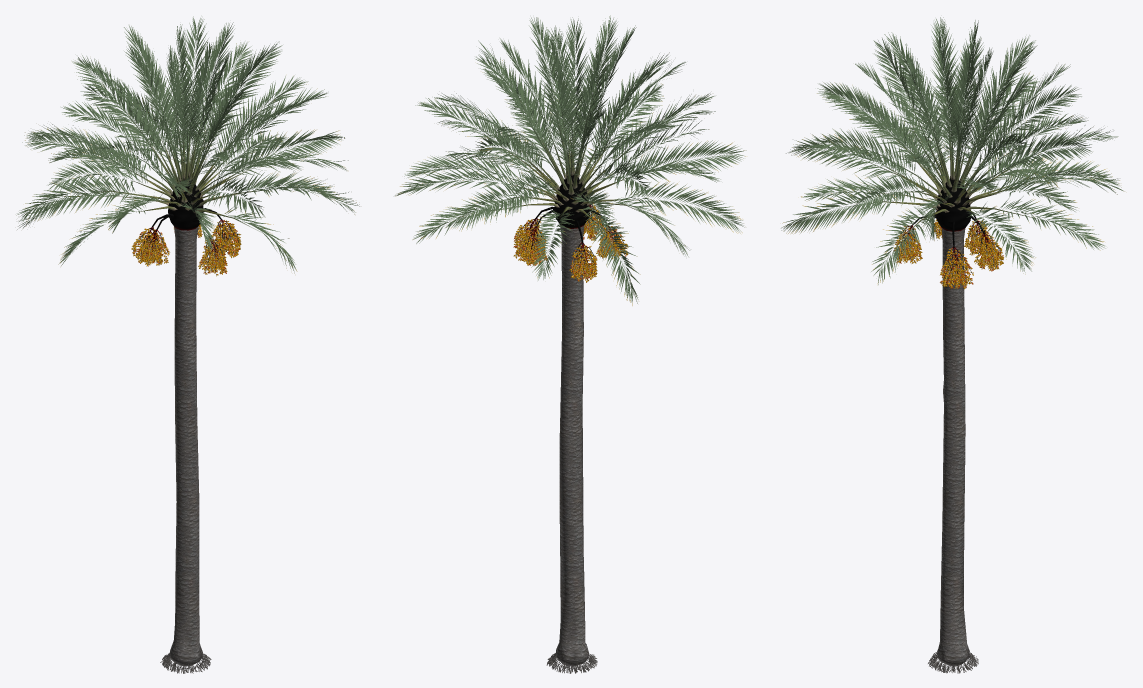
Rendered from assets__models__palm_a.glb.
The picture shows the model from 3 angles, left to right: view 1: azimuth 30°, elevation 25°; view 2: azimuth 150°, elevation 25°; view 3: azimuth 270°, elevation 25°; orthographic projection.
Parts seen in each view (by area): view 1: Phoenix_dactylifera_HD; view 2: Phoenix_dactylifera_HD; view 3: Phoenix_dactylifera_HD.
Part boxes in pixels (left/top/right/bottom): Phoenix_dactylifera_HD: left=16, top=16, right=359, bottom=673; Phoenix_dactylifera_HD: left=395, top=15, right=746, bottom=673; Phoenix_dactylifera_HD: left=781, top=17, right=1124, bottom=673.
Bounding box in the file's own units: 6.99 × 13.92 × 7.08.
10 materials, 10 textured.
